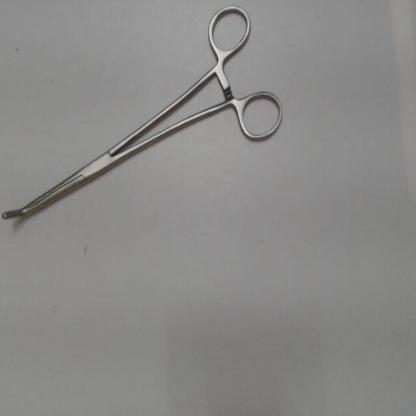Lahey Forceps: (1, 1, 285, 226)
